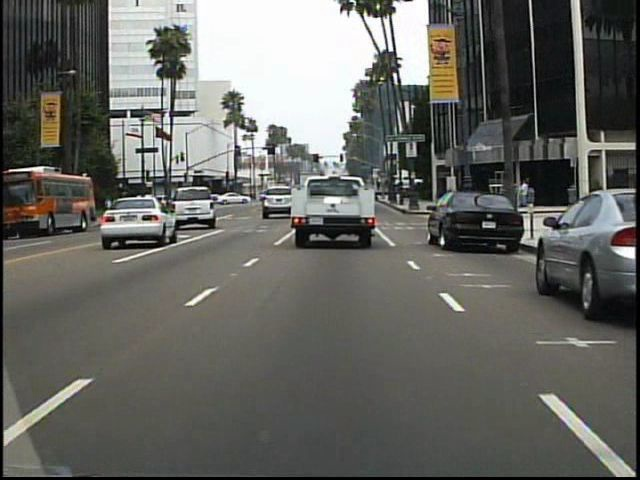person: (519, 177, 531, 194)
